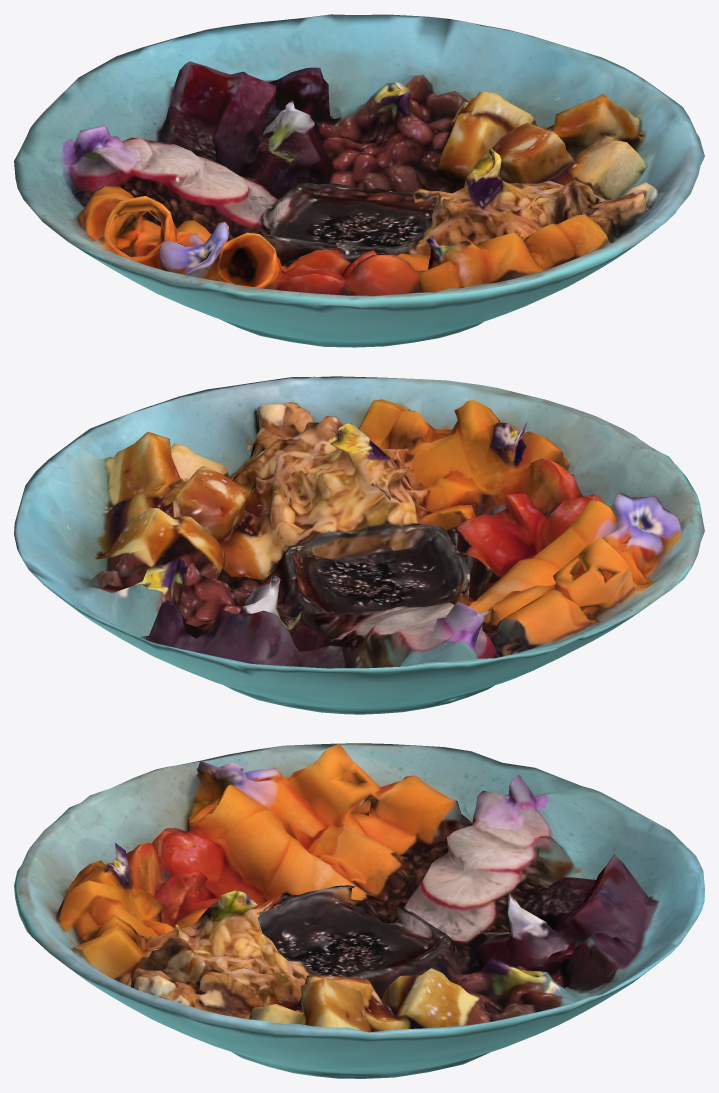
File: poke_bowl.glb
3 views of the same model, one above another, from view 1: azimuth 30°, elevation 25°; view 2: azimuth 150°, elevation 25°; view 3: azimuth 270°, elevation 25° (orthographic).
Parts seen in each view (by area): view 1: PokeBowl; view 2: PokeBowl; view 3: PokeBowl.
Boxes of the visible parts, <box> form: PokeBowl: <box>14,14,704,347</box>; PokeBowl: <box>14,376,704,714</box>; PokeBowl: <box>14,743,704,1078</box>.
Size of the model in its own units: 0.2696 by 0.0663 by 0.2688.
Materials: 1 (1 with a texture image).
